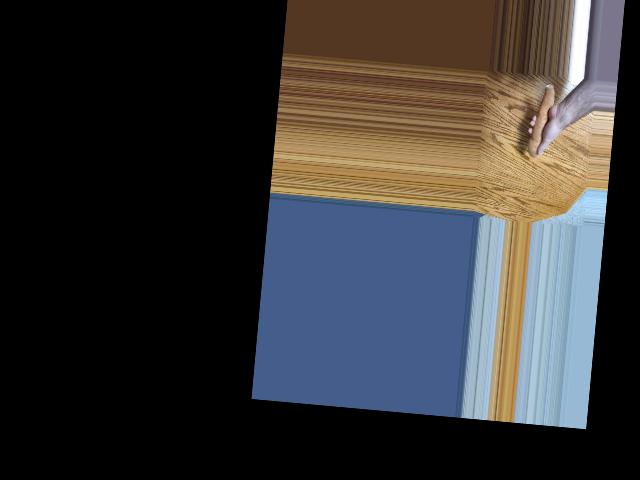sweet_potato: (526, 79, 559, 158)
